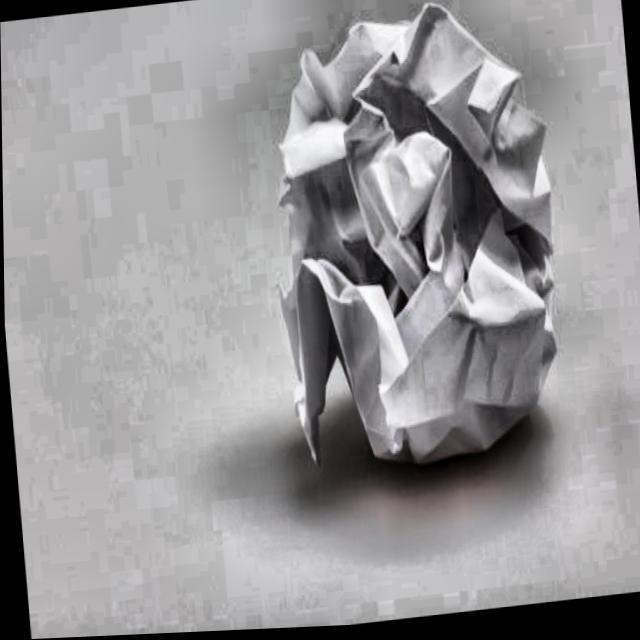Paper: (246, 0, 588, 530)
